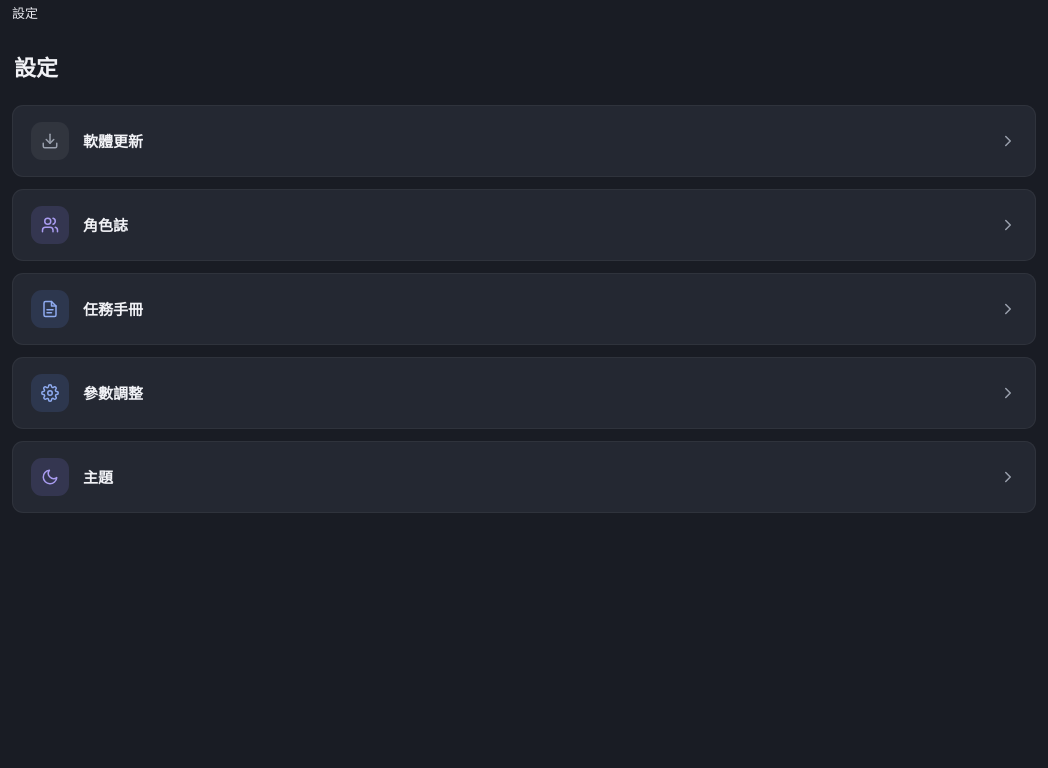
Test case: 設定 › 任務手冊 — detail › hub → 任務定義 entry pushes the definition sub-page (not inline), READ-ONLY by default; <type> crumb returns to the hub (owner 2026-07-20)
Click the button with test id "settings-manuals-entry".
click(50, 308)  # box x1=12 y1=272 x2=1036 y2=344
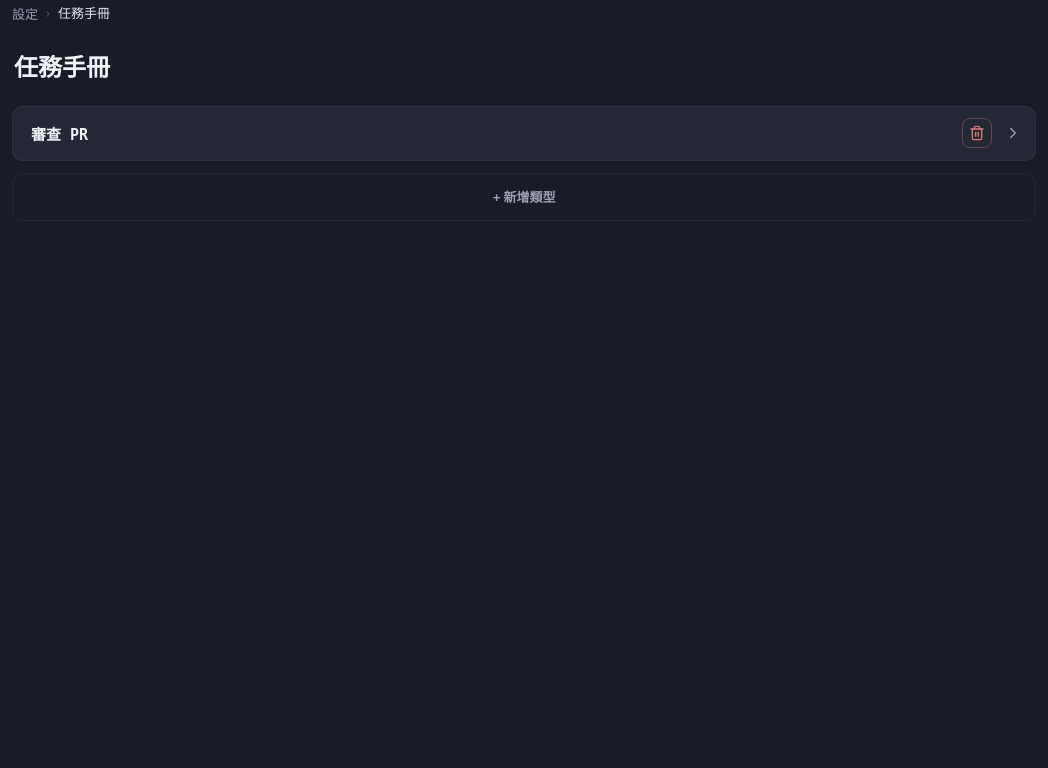
Click the button with test id "manual-open-review-pr".
click(60, 134)  # box x1=12 y1=106 x2=1036 y2=160
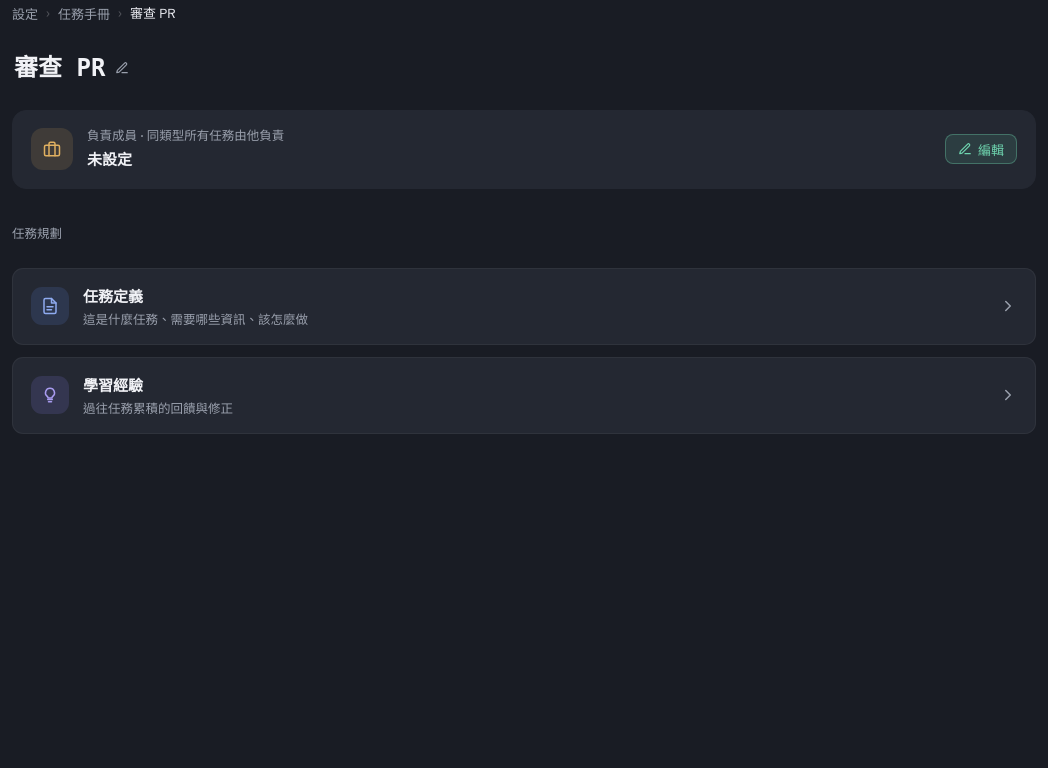
Expected: the button with test id "manual-entry-definition" is shown
Expected: the button with test id "manual-entry-learnings" is shown, x1=12 y1=356 x2=1036 y2=434
Click the button with test id "manual-entry-definition".
click(50, 306)  # box x1=12 y1=268 x2=1036 y2=344
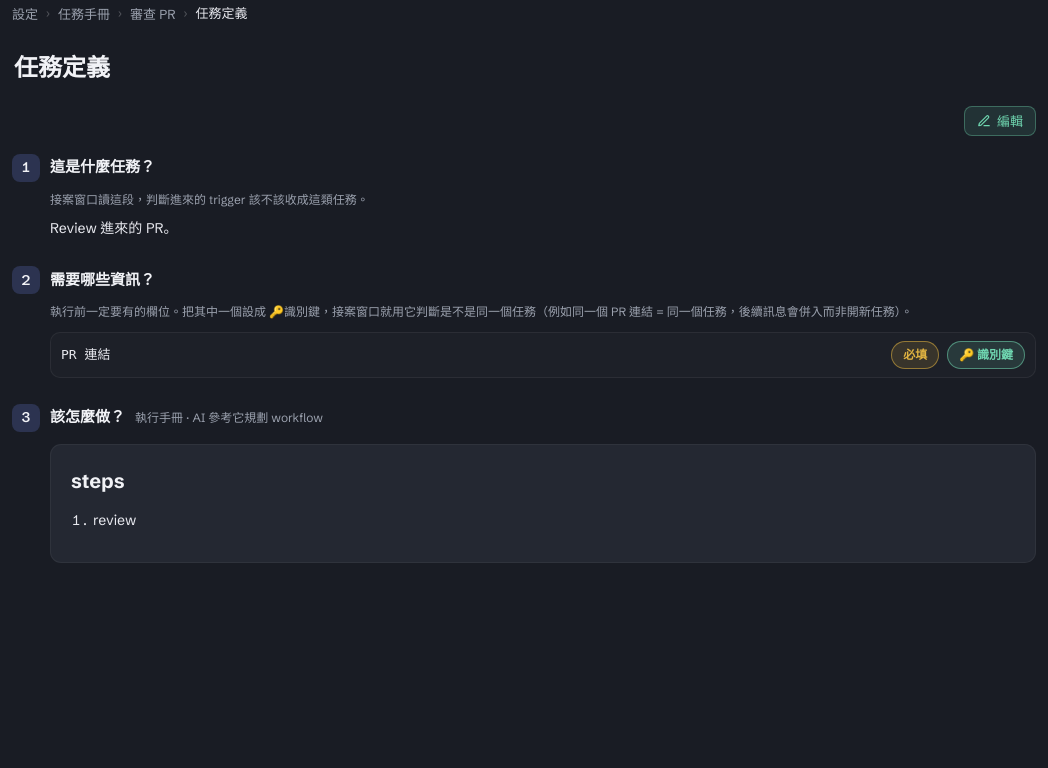
Expected: the element with test id "manual-definition-card" is shown, x1=12 y1=106 x2=1036 y2=563
Expected: the element with test id "manual-assignee-card" is gone
Expected: the button with test id "manual-entry-learnings" is gone
Click the button "審查 PR".
click(153, 14)  # box x1=130 y1=4 x2=175 y2=23
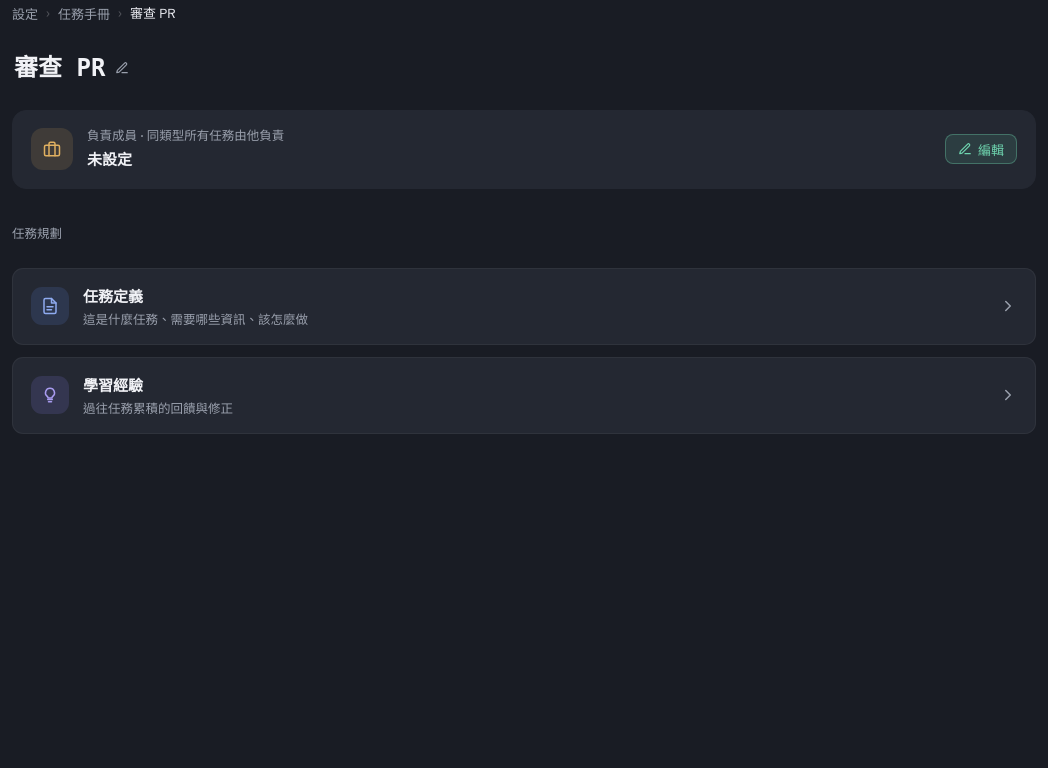
Expected: the element with test id "manual-assignee-card" is shown, x1=12 y1=110 x2=1036 y2=189
Expected: the element with test id "manual-definition-card" is gone
Expected: the button with test id "manual-entry-definition" is shown, x1=12 y1=268 x2=1036 y2=344
